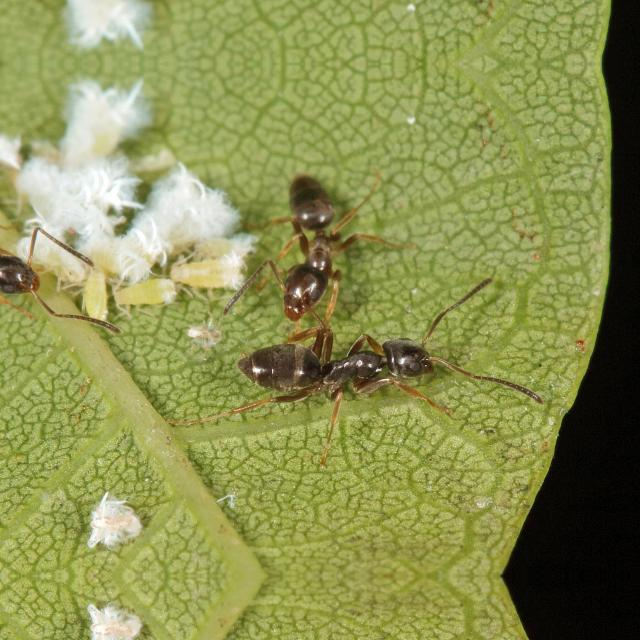Tapinoma: (221, 314, 474, 431), (245, 164, 379, 326), (0, 211, 92, 335)
